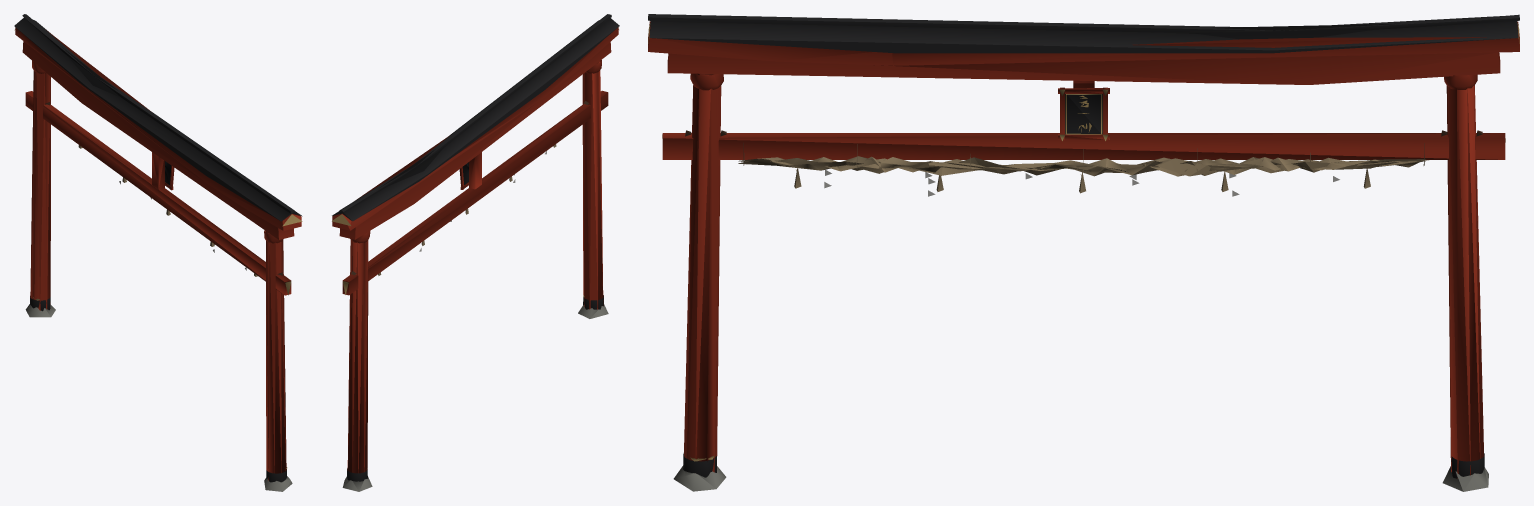
Rendered from SM_Torii_Large.glb.
3 renders of one model, left to right at view 1: azimuth 30°, elevation 25°; view 2: azimuth 150°, elevation 25°; view 3: azimuth 270°, elevation 25°, orthographic. The views are drawn at different scales.
Parts seen in each view (by area): view 1: SM_Torii_Large; view 2: SM_Torii_Large; view 3: SM_Torii_Large.
Part boxes in pixels (box(x1,y1,x2,y2)): SM_Torii_Large: box(14, 14, 302, 491); SM_Torii_Large: box(332, 14, 619, 491); SM_Torii_Large: box(648, 14, 1519, 491).
Bounding box in the file's own units: 1.42 × 14.16 × 24.
